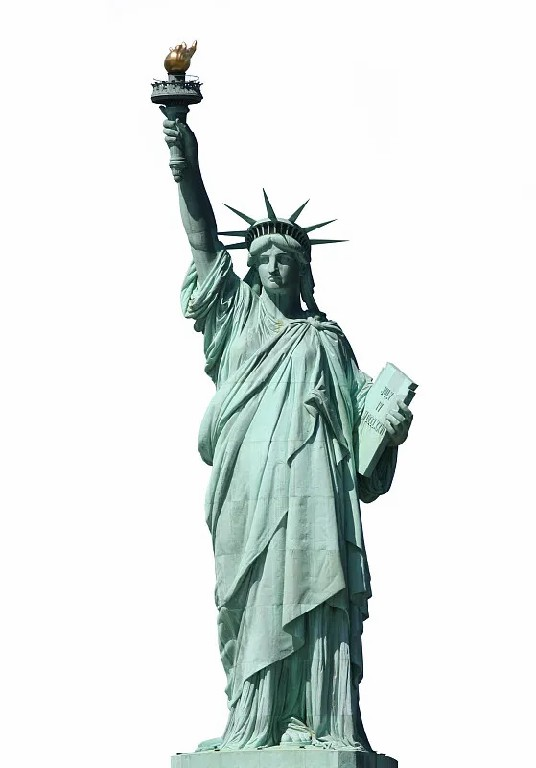SL: (151, 40, 419, 768)
